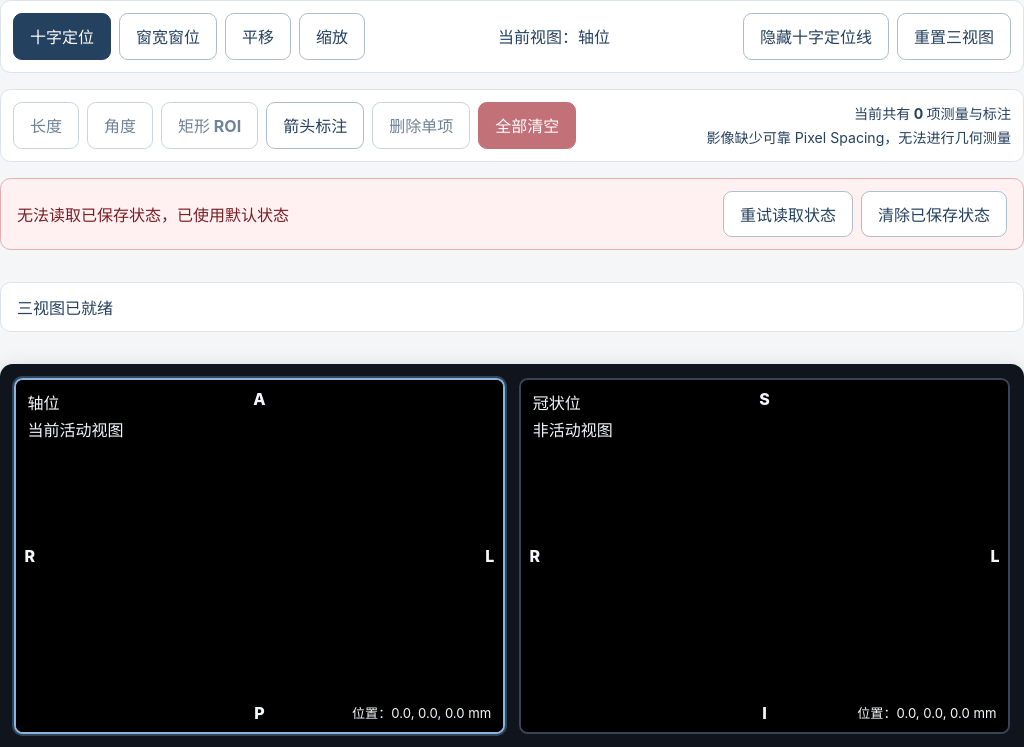
Test case: uses the default MPR when saved state loading fails and exposes a clear path
Expected: the text "无法读取已保存状态，已使用默认状态" is shown, [17,202,289,226]
Expected: the button "平移" is enabled, [225,13,291,60]
Click the button "清除已保存状态" at (934, 214), box [861,191,1007,237]
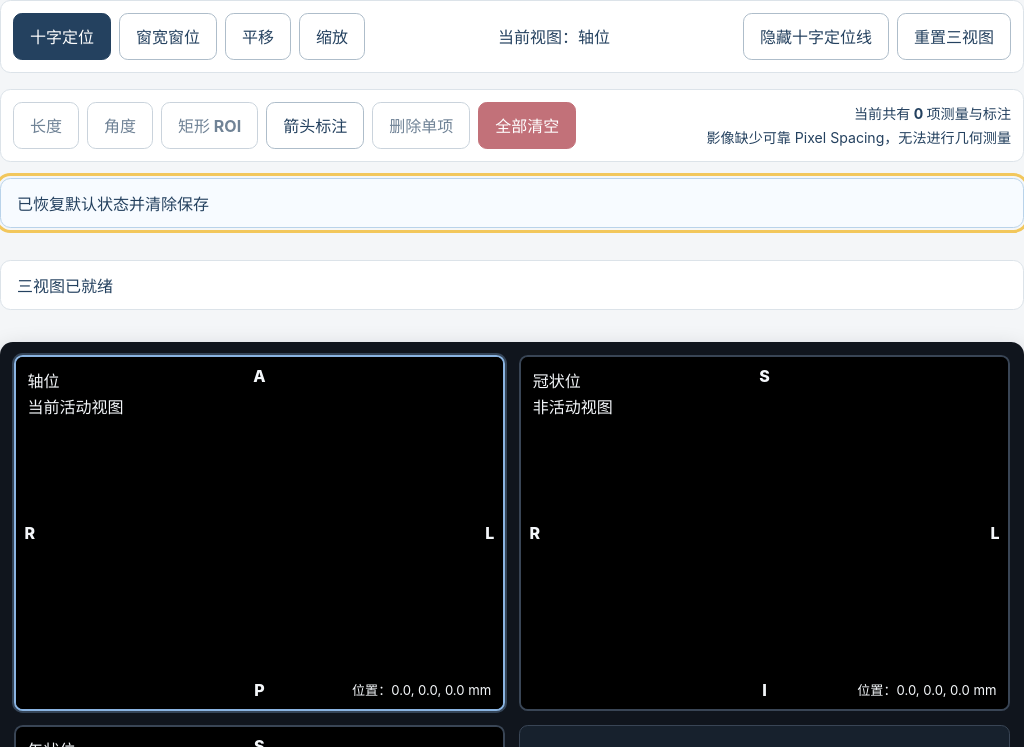
Expected: the text "已恢复默认状态并清除保存" is shown, [17,191,209,215]
